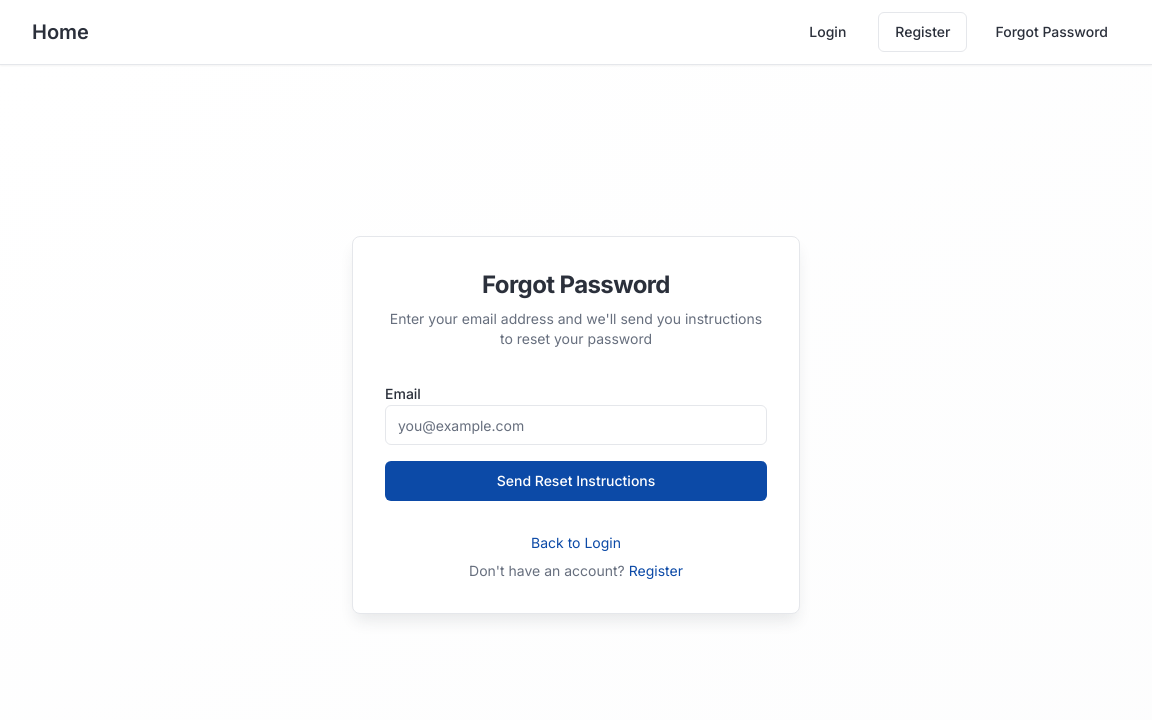
Test: ForgotPassword › should show validation error for invalid email
The image size is (1152, 720).
Type invalid email
Step 1. Type "invalid-email" into the field labelled "Email" → (576, 425), box [385,405,767,445]
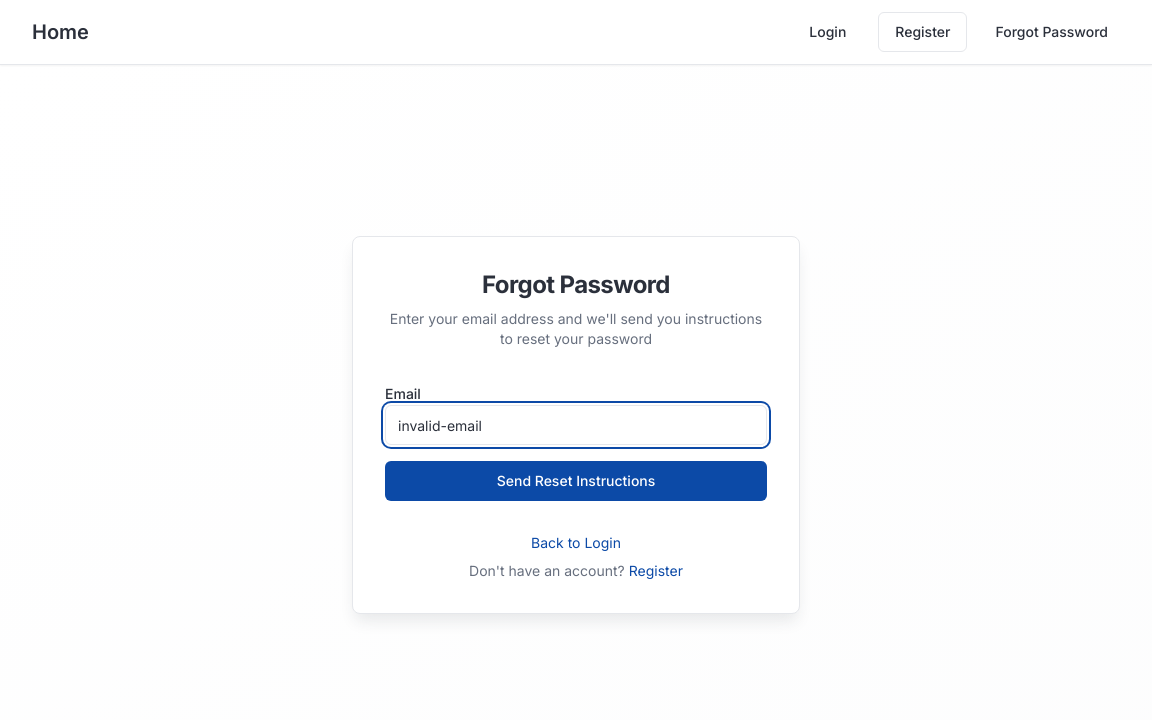
Try to submit - validation should prevent API call
Step 2. Click the button "Send Reset Instructions" → click(576, 481), box [385,461,767,501]
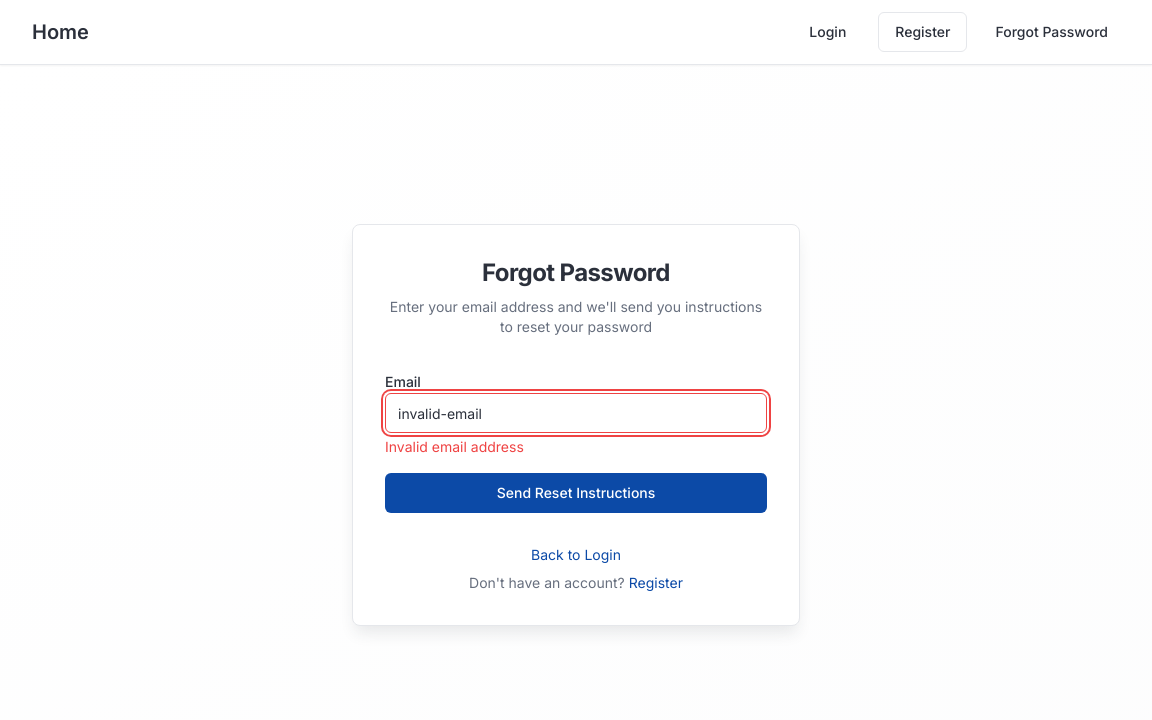
Result: the text "Invalid email address" is shown at [385,438,524,455]
